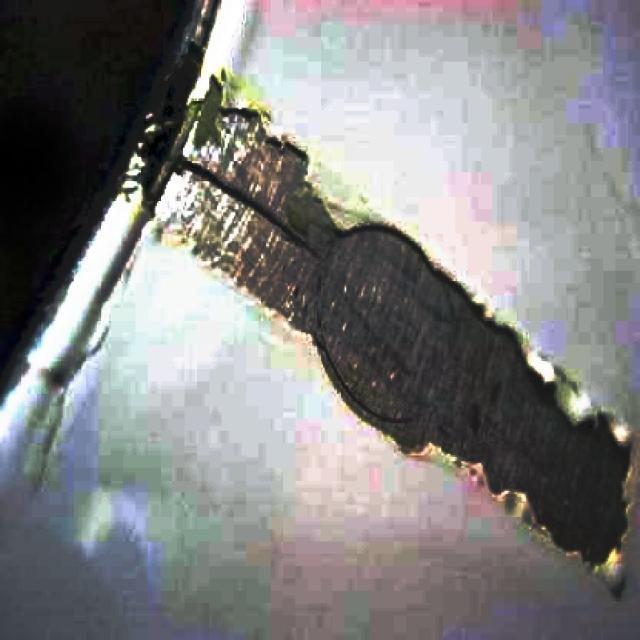crack: (180, 154, 256, 205), (254, 206, 314, 254)
